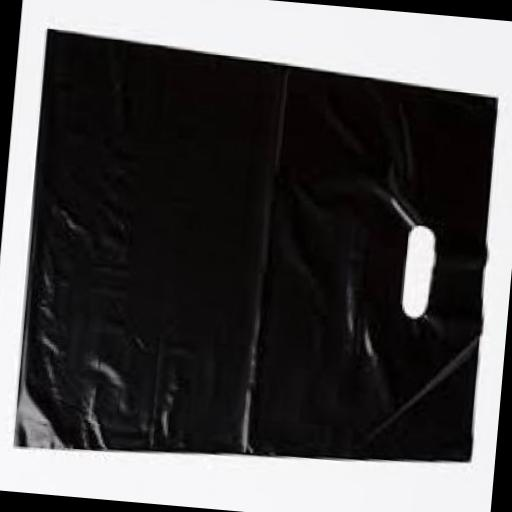plastic: (12, 26, 507, 486)
